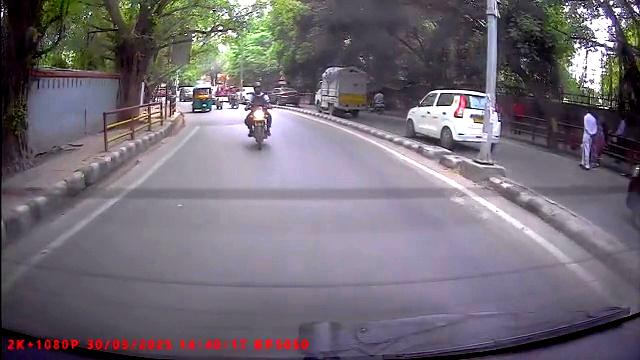motorcycle_with_helmet: (244, 85, 273, 152)
